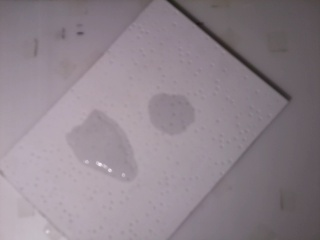Water_detected: (77, 127, 135, 177), (154, 97, 192, 132)
